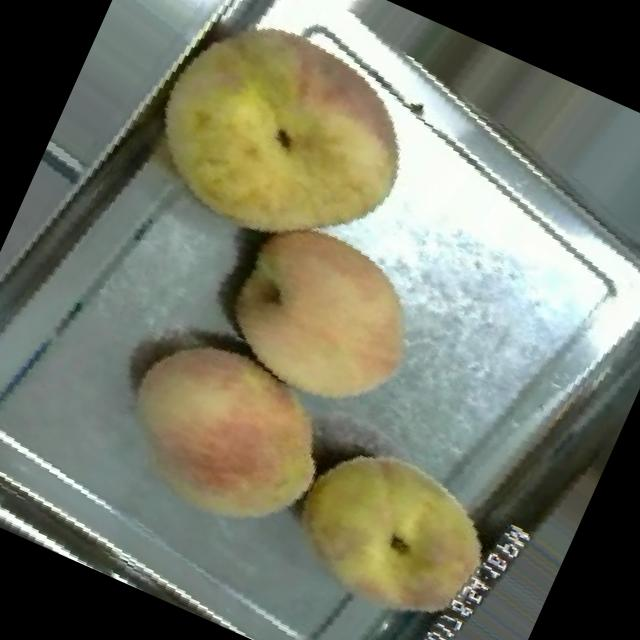Fruit: (90, 0, 474, 322), (72, 290, 377, 578), (174, 174, 467, 450), (250, 402, 537, 640)
